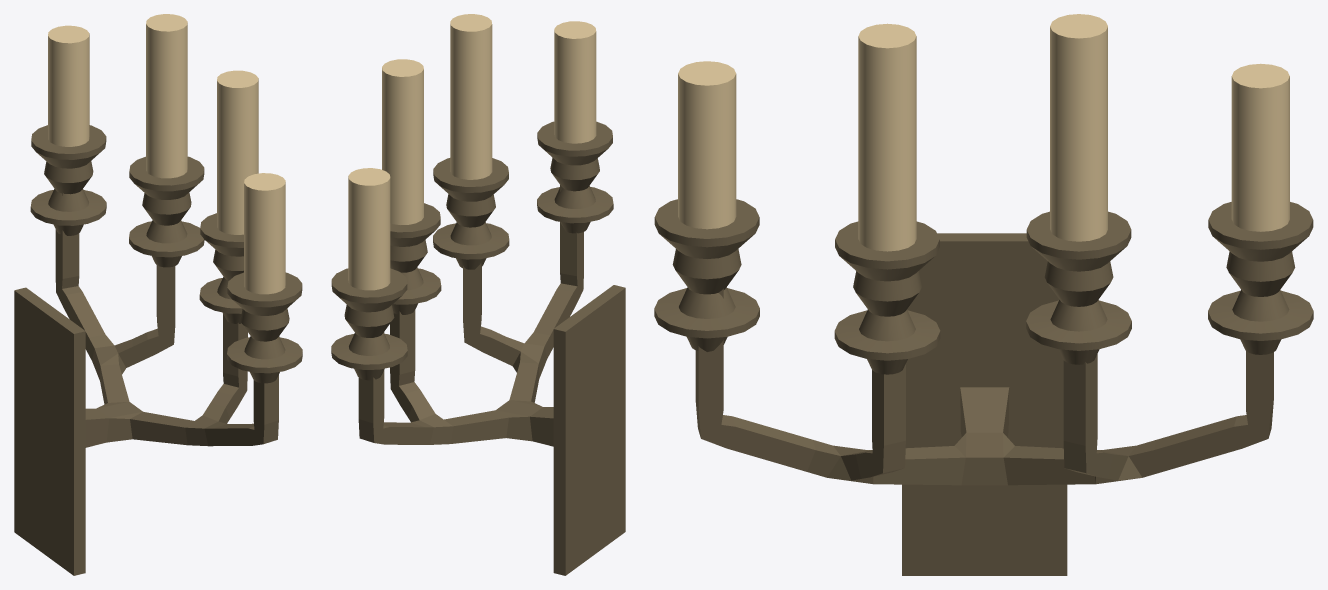
The model's file is Candle.fbx.
The picture shows the model from 3 angles, left to right: view 1: azimuth 30°, elevation 25°; view 2: azimuth 150°, elevation 25°; view 3: azimuth 270°, elevation 25°; orthographic projection. The views are drawn at different scales.
Visible parts, largest first — view 1: Cube, Plane, Cylinder, Cylinder.003, Cylinder.001, Cylinder.002; view 2: Cube, Plane, Cylinder.002, Cylinder.001, Cylinder.003, Cylinder; view 3: Cube, Plane, Cylinder.002, Cylinder, Cylinder.001, Cylinder.003.
Part boxes in pixels (<box>): Cube: <box>14,287,85,575</box>; Plane: <box>55,192,278,447</box>; Cylinder: <box>129,14,204,267</box>; Cylinder.003: <box>227,173,302,383</box>; Cylinder.001: <box>30,25,106,235</box>; Cylinder.002: <box>199,70,258,323</box>; Cube: <box>553,285,625,575</box>; Plane: <box>358,185,583,446</box>; Cylinder.002: <box>433,14,509,269</box>; Cylinder.001: <box>331,168,407,380</box>; Cylinder.003: <box>537,21,613,233</box>; Cylinder: <box>382,59,441,314</box>; Cube: <box>902,233,1067,575</box>; Plane: <box>695,288,1273,485</box>; Cylinder.002: <box>834,23,940,374</box>; Cylinder: <box>1026,14,1131,364</box>; Cylinder.001: <box>1208,63,1313,354</box>; Cylinder.003: <box>654,61,759,351</box>.
Size of the model in its own units: 166 by 387 by 357.
